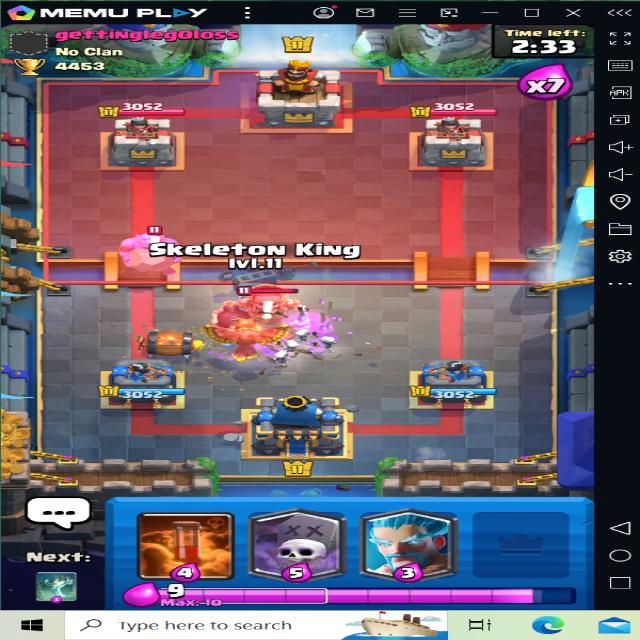bowler: (116, 222, 185, 277)
giant-skeleton: (209, 288, 310, 337)
